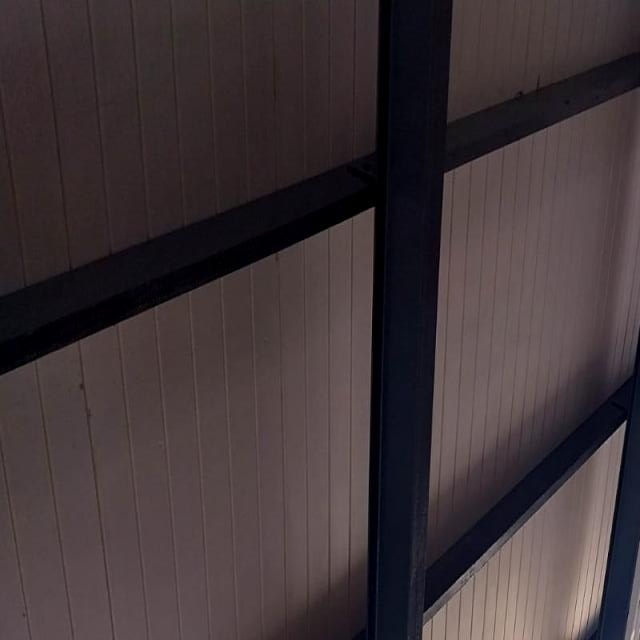fluorescent tube: (613, 403, 640, 640)
